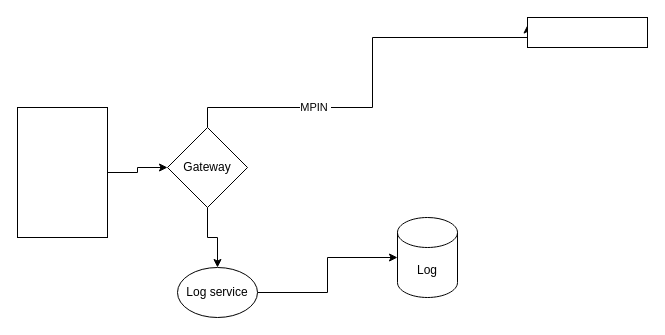
The diagram is 665 pixels wide and 335 high, and some of its shapes have lost their labels. The shapes that lost their labels are listed below. From the top down, each one's centre as x and y in pixels, then its label:
At point 587,32: "SSO WebSeal (8)".
At point 62,172: "Mobile App".
